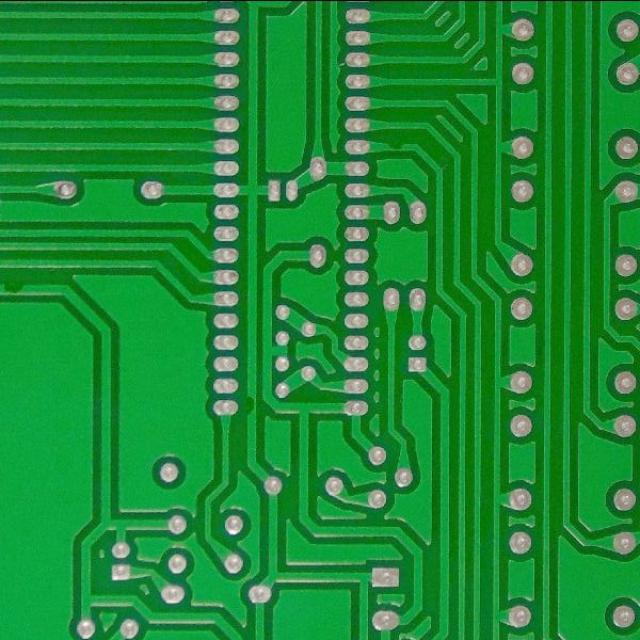mouse_bite: (1, 276, 27, 298), (240, 392, 261, 419), (384, 136, 409, 152)
